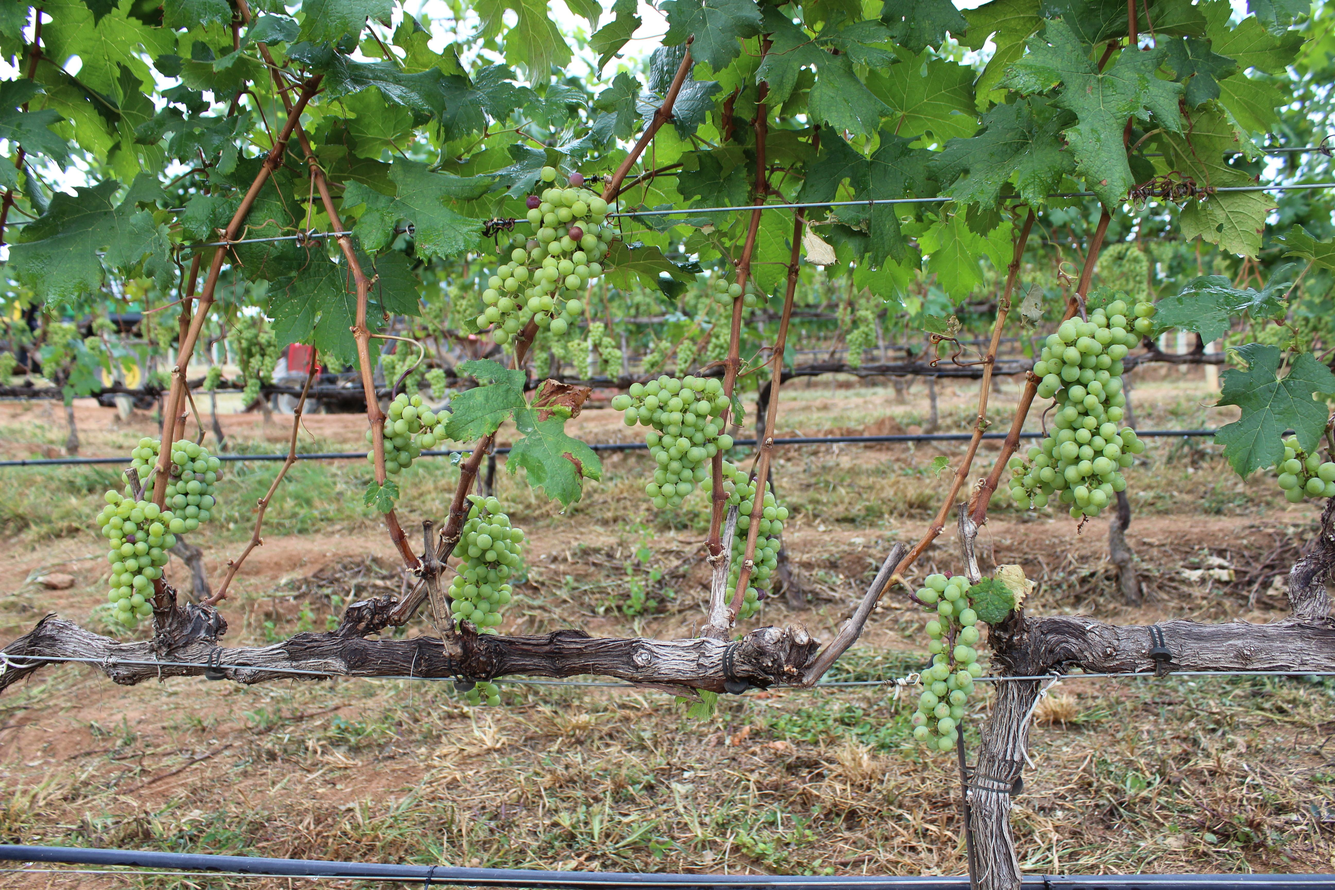leaf: (1002, 19, 1182, 207), (8, 175, 169, 303), (755, 7, 890, 134), (1215, 343, 1335, 476), (929, 97, 1075, 206), (344, 159, 494, 256), (41, 0, 176, 96), (288, 42, 458, 117), (268, 250, 357, 363), (867, 54, 977, 141), (508, 407, 601, 506), (1154, 276, 1289, 343), (475, 0, 571, 85), (1197, 0, 1302, 74), (963, 0, 1042, 96), (1162, 106, 1254, 187), (660, 0, 762, 72), (439, 65, 535, 138), (808, 51, 891, 135), (1179, 191, 1276, 256), (0, 79, 69, 165), (917, 213, 984, 298), (339, 87, 414, 159), (856, 132, 934, 200), (1164, 37, 1237, 108), (446, 380, 526, 441), (605, 241, 701, 289), (880, 0, 968, 52), (798, 137, 868, 202), (181, 42, 264, 94), (1218, 74, 1289, 134), (677, 148, 750, 206), (300, 0, 394, 43), (359, 251, 420, 316), (1041, 0, 1128, 45), (589, 0, 642, 71), (495, 143, 563, 196), (672, 72, 721, 143), (593, 72, 641, 139), (1275, 224, 1335, 270), (869, 204, 908, 265), (456, 359, 526, 391), (968, 578, 1015, 624), (162, 0, 232, 29), (1248, 0, 1311, 32), (241, 14, 300, 48), (646, 45, 686, 95), (647, 45, 685, 97), (364, 479, 400, 513), (0, 2, 30, 41), (655, 132, 673, 164), (367, 307, 381, 330), (827, 39, 847, 43), (37, 67, 42, 80), (640, 106, 649, 113), (516, 372, 522, 377), (641, 97, 647, 102), (125, 3, 130, 8), (658, 153, 663, 157), (659, 134, 662, 140), (832, 47, 839, 49), (455, 396, 459, 399), (655, 101, 657, 105), (816, 198, 823, 199), (688, 74, 690, 77), (229, 12, 230, 17), (229, 42, 230, 46), (683, 144, 684, 147), (660, 131, 661, 134), (95, 100, 95, 101), (225, 4, 225, 5)
